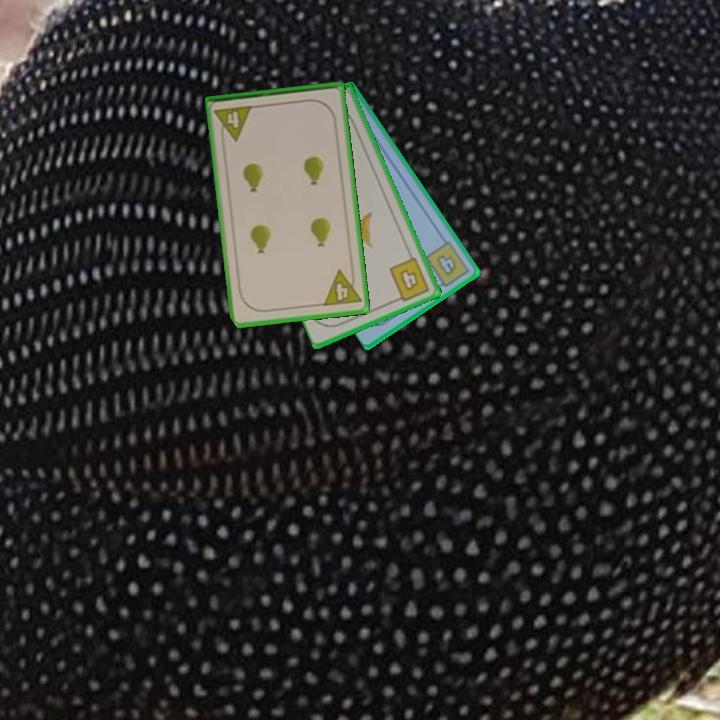4b: (422, 238, 472, 292), (386, 254, 433, 305)
4p: (320, 265, 364, 309), (211, 102, 255, 144)
